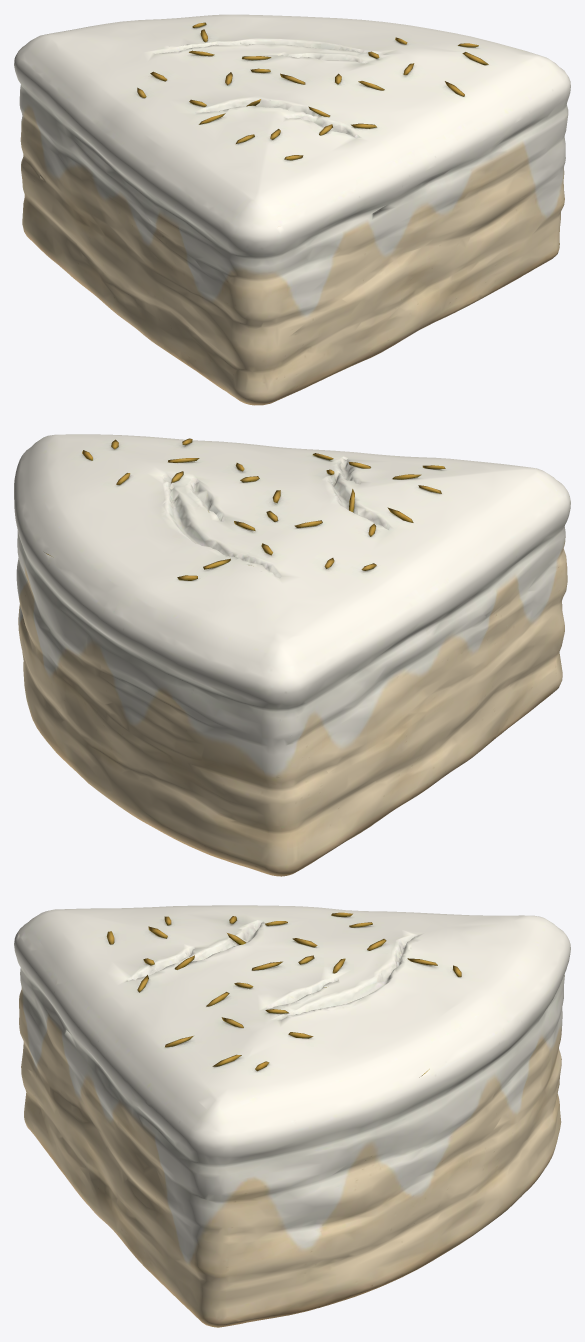
File: scone--lemon-slice.glb
3 renders of one model, top to bottom at view 1: azimuth 30°, elevation 25°; view 2: azimuth 150°, elevation 25°; view 3: azimuth 270°, elevation 25°, orthographic. The views are drawn at different scales.
Visible parts, largest first — view 1: scone_lemon-slice; view 2: scone_lemon-slice; view 3: scone_lemon-slice.
Part boxes in pixels (x1,y1,x2,y2): scone_lemon-slice: (14, 14, 570, 405); scone_lemon-slice: (14, 434, 570, 876); scone_lemon-slice: (14, 905, 570, 1327).
Bounding box in the file's own units: 0.9368 × 0.4782 × 0.983.
1 material, 1 textured.
